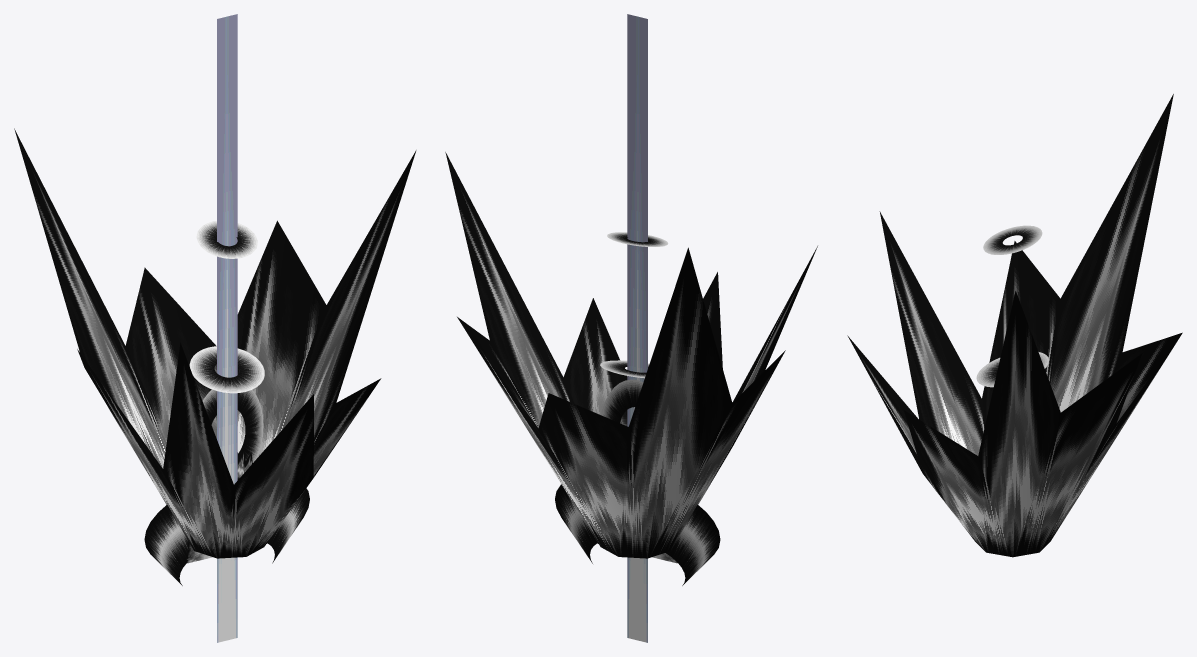
Rendered from EffCommonDead.obj.
3 views of the same model, side by side, from view 1: azimuth 30°, elevation 25°; view 2: azimuth 150°, elevation 25°; view 3: azimuth 270°, elevation 25° (orthographic).
Visible parts, largest first — view 1: polygon4, polygon1, polygon5, polygon6, polygon2, polygon7; view 2: polygon4, polygon1, polygon5, polygon2; view 3: polygon4, polygon7, polygon6.
Boxes of the visible parts, bbox=[...] form: polygon4: bbox=[14, 128, 416, 558]; polygon1: bbox=[217, 14, 237, 642]; polygon5: bbox=[144, 488, 309, 585]; polygon6: bbox=[189, 346, 264, 393]; polygon2: bbox=[202, 389, 263, 462]; polygon7: bbox=[196, 220, 257, 258]; polygon4: bbox=[445, 152, 817, 558]; polygon1: bbox=[627, 14, 647, 642]; polygon5: bbox=[555, 484, 720, 585]; polygon2: bbox=[602, 379, 643, 422]; polygon4: bbox=[847, 94, 1182, 557]; polygon7: bbox=[983, 225, 1042, 254]; polygon6: bbox=[976, 352, 1048, 387].
Size of the model in its own units: 164 by 288 by 142.
Materials: 8 (8 with a texture image).
